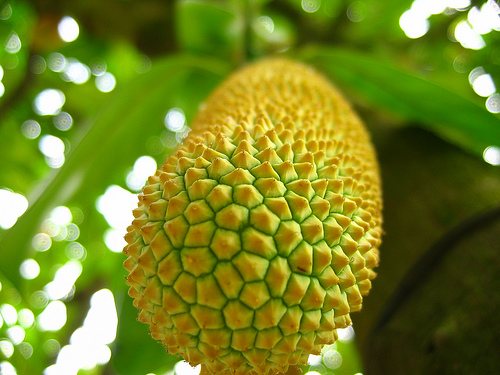jackfruit: (122, 58, 385, 372)
